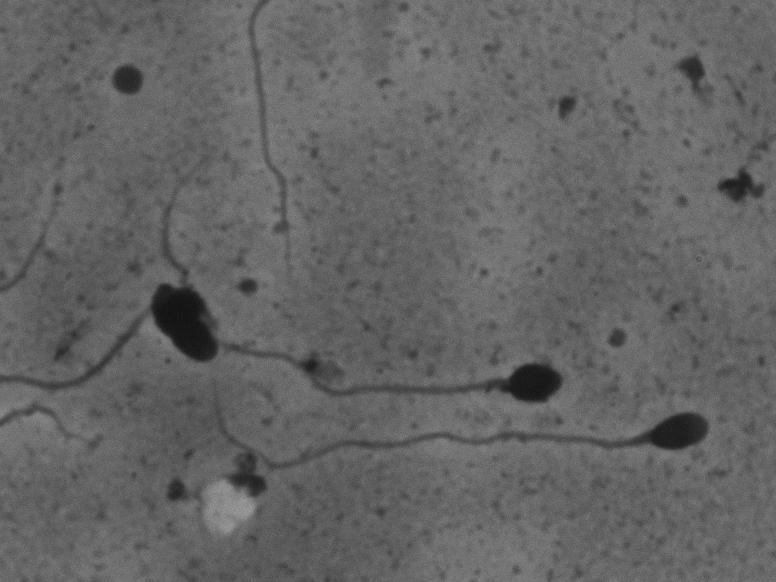Abnormal: (147, 145, 582, 408)
Normal: (260, 403, 724, 504)
